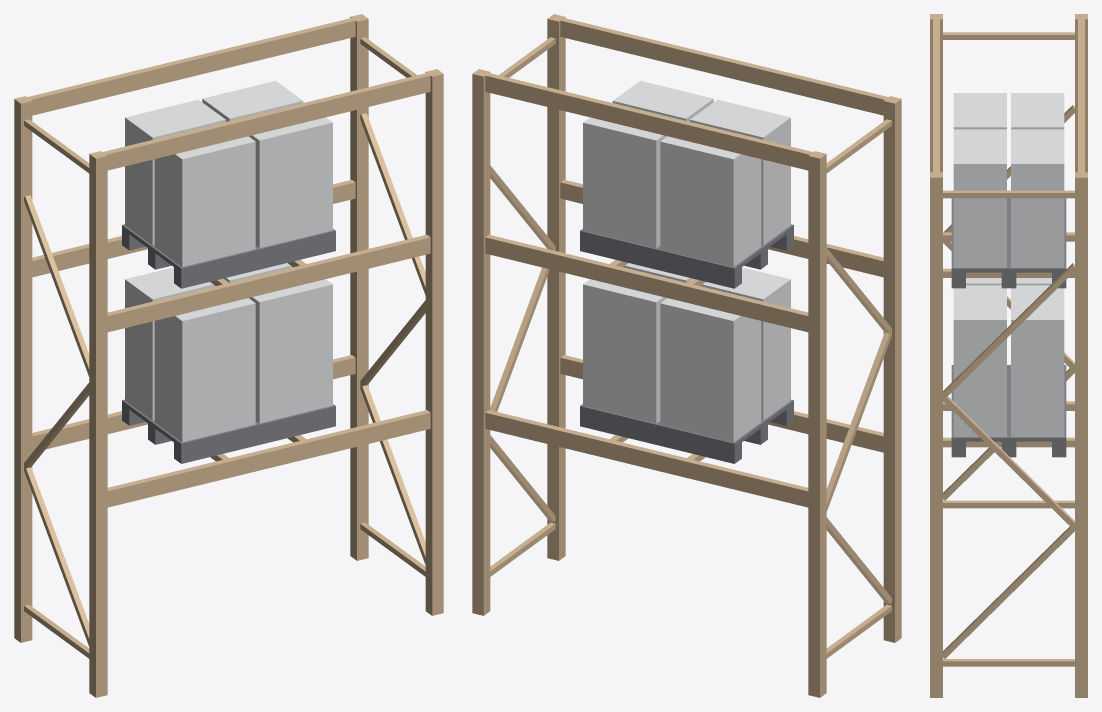
Rendered from pallet_rack.glb.
3 renders of one model, left to right at view 1: azimuth 30°, elevation 25°; view 2: azimuth 150°, elevation 25°; view 3: azimuth 270°, elevation 25°, orthographic. The views are drawn at different scales.
Visible parts, largest first — view 1: pallet_rack; view 2: pallet_rack; view 3: pallet_rack.
Part boxes in pixels (x1,y1,x2,y2): pallet_rack: (14,14,443,697); pallet_rack: (472,14,901,697); pallet_rack: (930,14,1087,697).
Bounding box in the file's own units: 2.7 × 4 × 1.1.
